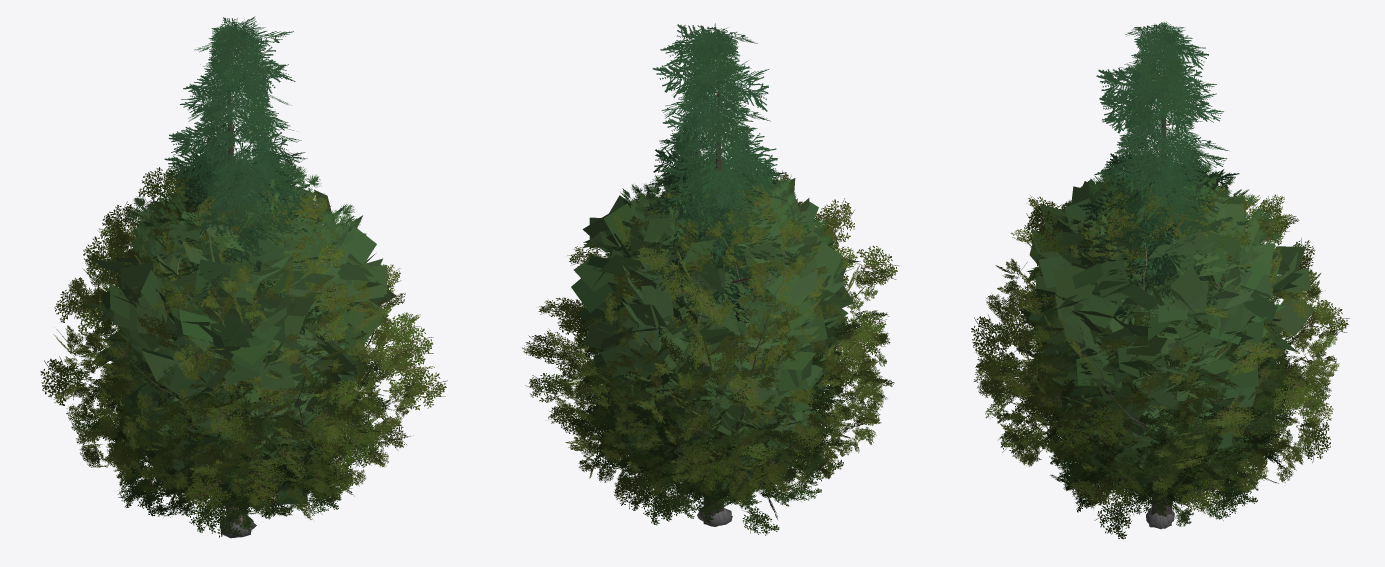
Rendered from trees.glb.
3 renders of one model, left to right at view 1: azimuth 30°, elevation 25°; view 2: azimuth 150°, elevation 25°; view 3: azimuth 270°, elevation 25°, orthographic. The views are drawn at different scales.
Parts seen in each view (by area): view 1: keyaki_s9_far_leaves, kusu_far_leaves, kusu_near_leaves, sugi_far_leaves, sugi_near_leaves, matsu_far_leaves, sakura_far_leaves, enoki_far_leaves, enoki_near_leaves, keyaki_s8_far_leaves, matsu_near_leaves, keyaki_s10_far_leaves (+5 smaller); view 2: kusu_near_leaves, keyaki_s9_far_leaves, kusu_far_leaves, sugi_far_leaves, sugi_near_leaves, keyaki_s8_far_leaves, enoki_far_leaves, matsu_far_leaves, sakura_far_leaves, enoki_near_leaves, shii_far_leaves, sakura_near_leaves (+5 smaller); view 3: keyaki_s9_far_leaves, kusu_far_leaves, kusu_near_leaves, sugi_far_leaves, sugi_near_leaves, keyaki_s8_far_leaves, enoki_far_leaves, enoki_near_leaves, matsu_far_leaves, shii_far_leaves, sakura_far_leaves, shii_near_leaves (+6 smaller).
Boxes of the visible parts, x1,y1,x2,y2 form: keyaki_s9_far_leaves: [89, 182, 396, 482]; kusu_far_leaves: [40, 157, 447, 519]; kusu_near_leaves: [64, 176, 427, 506]; sugi_far_leaves: [156, 16, 320, 414]; sugi_near_leaves: [182, 17, 296, 391]; matsu_far_leaves: [126, 155, 360, 331]; sakura_far_leaves: [111, 393, 379, 537]; enoki_far_leaves: [81, 333, 393, 505]; enoki_near_leaves: [108, 330, 379, 516]; keyaki_s8_far_leaves: [107, 256, 369, 512]; matsu_near_leaves: [124, 175, 342, 323]; keyaki_s10_far_leaves: [122, 368, 342, 504]; kusu_near_leaves: [555, 190, 894, 507]; keyaki_s9_far_leaves: [571, 178, 860, 463]; kusu_far_leaves: [522, 170, 898, 509]; sugi_far_leaves: [634, 23, 796, 382]; sugi_near_leaves: [664, 27, 763, 366]; keyaki_s8_far_leaves: [593, 251, 837, 498]; enoki_far_leaves: [569, 322, 860, 509]; matsu_far_leaves: [603, 156, 838, 328]; sakura_far_leaves: [577, 386, 843, 535]; enoki_near_leaves: [580, 319, 834, 505]; shii_far_leaves: [577, 253, 847, 498]; sakura_near_leaves: [597, 400, 829, 511]; keyaki_s9_far_leaves: [1016, 171, 1314, 460]; kusu_far_leaves: [971, 179, 1349, 511]; kusu_near_leaves: [975, 179, 1339, 500]; sugi_far_leaves: [1071, 22, 1239, 366]; sugi_near_leaves: [1105, 21, 1214, 357]; keyaki_s8_far_leaves: [1028, 255, 1273, 492]; enoki_far_leaves: [1014, 297, 1305, 506]; enoki_near_leaves: [1022, 293, 1295, 517]; matsu_far_leaves: [1051, 156, 1281, 325]; shii_far_leaves: [1069, 259, 1296, 502]; sakura_far_leaves: [1041, 392, 1301, 539]; shii_near_leaves: [1051, 275, 1282, 505].
Size of the model in its own units: 23.21 by 31.32 by 23.58.
Materials: 5 (4 with a texture image).
